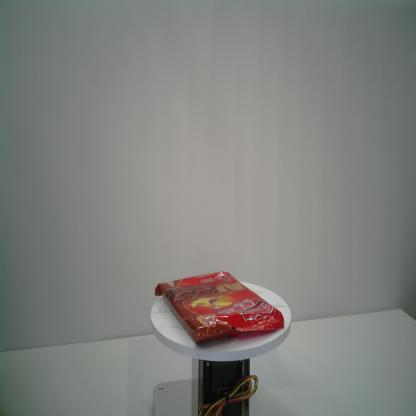Dessert: (154, 269, 285, 345)
